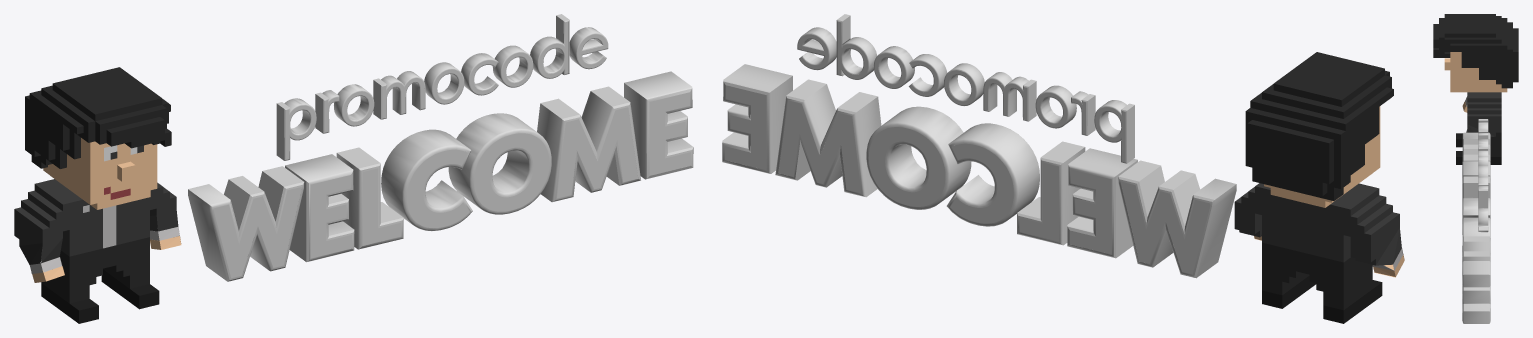
Rendered from end1.glb.
The picture shows the model from 3 angles, left to right: view 1: azimuth 30°, elevation 25°; view 2: azimuth 150°, elevation 25°; view 3: azimuth 270°, elevation 25°; orthographic projection. The views are drawn at different scales.
Parts seen in each view (by area): view 1: Текст, man; view 2: Текст, man; view 3: man, Текст.
Part boxes in pixels (bbox=[...]): Текст: bbox=[188, 14, 693, 281]; man: bbox=[14, 67, 181, 323]; Текст: bbox=[722, 14, 1236, 278]; man: bbox=[1234, 52, 1404, 323]; man: bbox=[1433, 14, 1518, 164]; Текст: bbox=[1462, 119, 1490, 323].
Bounding box in the file's own units: 11.03 × 3.49 × 2.08.
2 materials, 1 textured.
